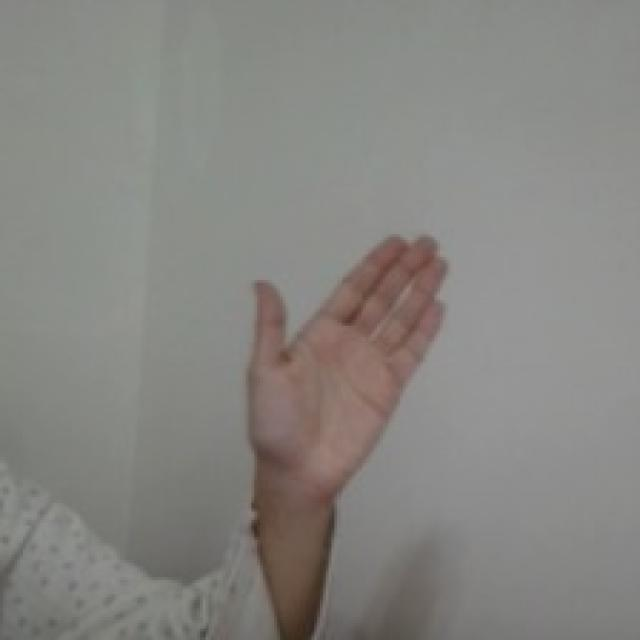Hello: (239, 226, 457, 497)
